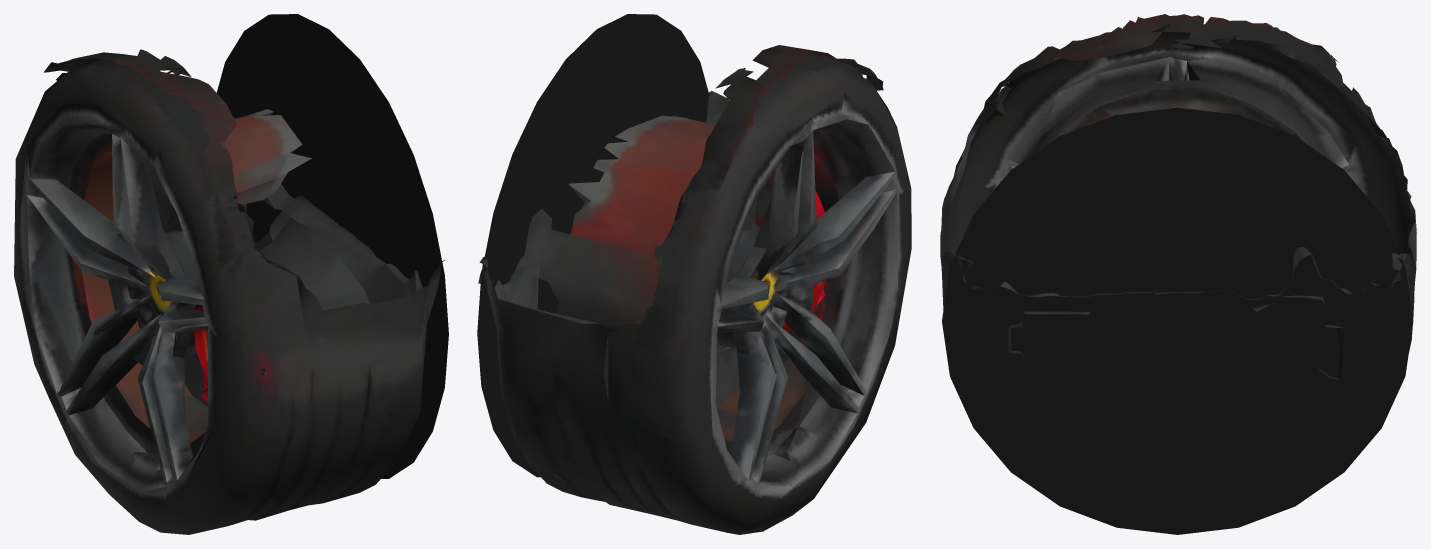
File: red_sports_wheel_FL.glb
3 views of the same model, side by side, from view 1: azimuth 30°, elevation 25°; view 2: azimuth 150°, elevation 25°; view 3: azimuth 270°, elevation 25° (orthographic).
Visible parts, largest first — view 1: red_sports_wheel_FL; view 2: red_sports_wheel_FL; view 3: red_sports_wheel_FL.
Part boxes in pixels (left/top/right/bottom): red_sports_wheel_FL: left=14, top=14, right=448, bottom=534; red_sports_wheel_FL: left=477, top=14, right=911, bottom=534; red_sports_wheel_FL: left=940, top=14, right=1416, bottom=534.
Size of the model in its own units: 0.3888 by 0.7604 by 0.7467.
1 material, 1 textured.
